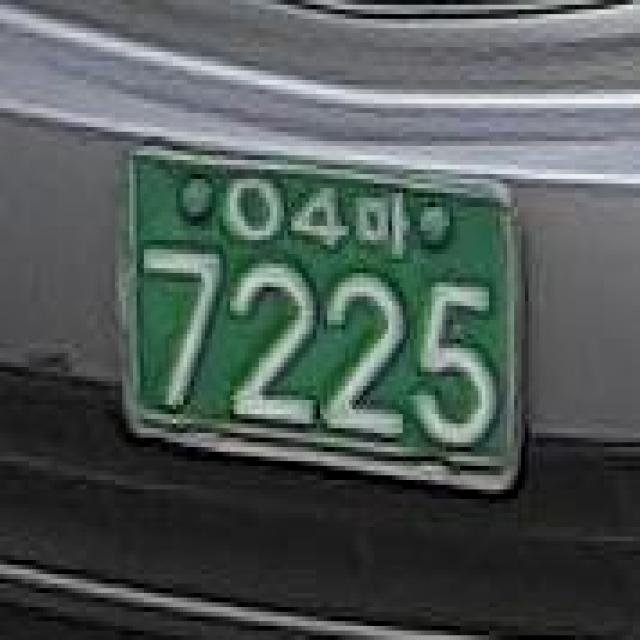illegal_plate: (100, 128, 546, 508)
